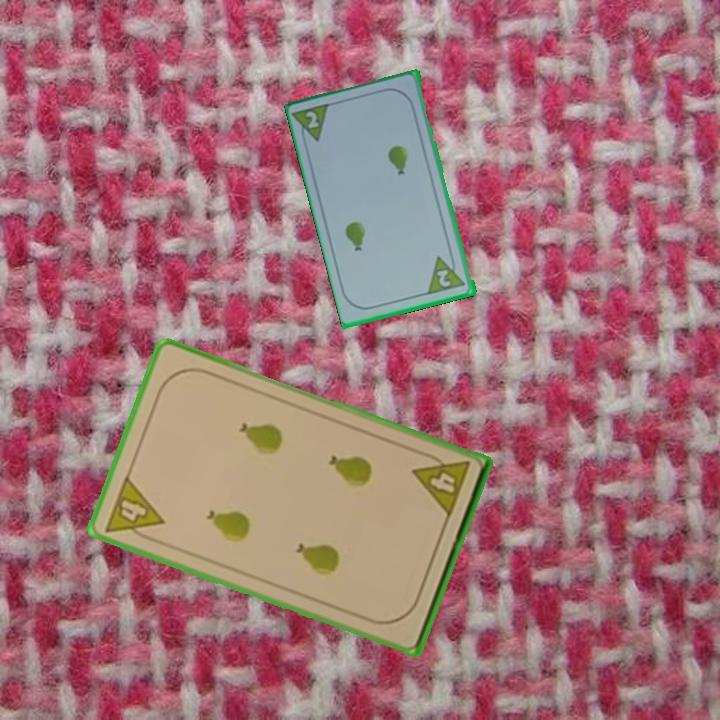2p: (425, 250, 469, 297), (303, 107, 322, 132)
4p: (101, 472, 167, 547), (409, 448, 473, 521)
